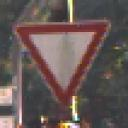preferencia: (9, 16, 116, 108)
